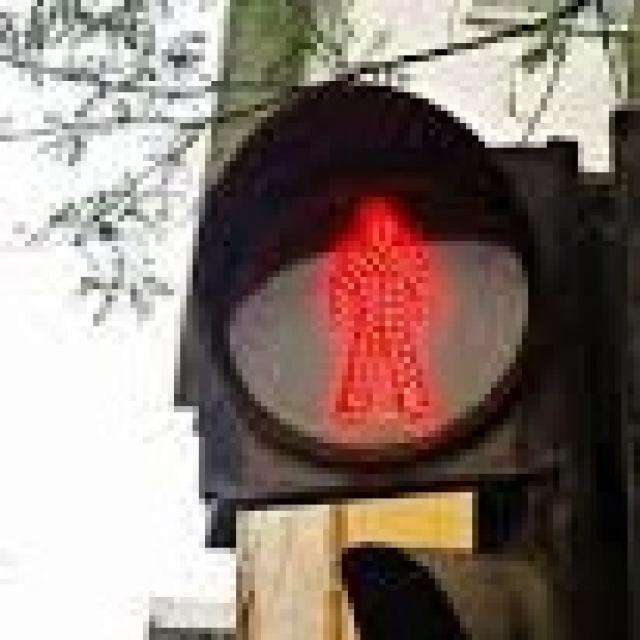red-light: (277, 167, 470, 432)
